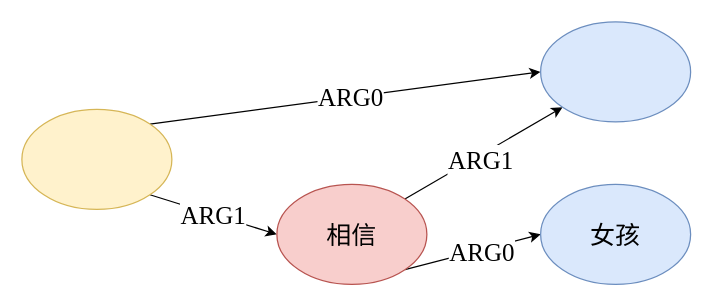
The diagram is 713 pixels wide and 306 high, and some of its shapes have lost their labels. The centre of each missing label's shape, as x and y in pixels:
"希望" belongs at (x=96, y=158).
"男孩" belongs at (x=615, y=71).
